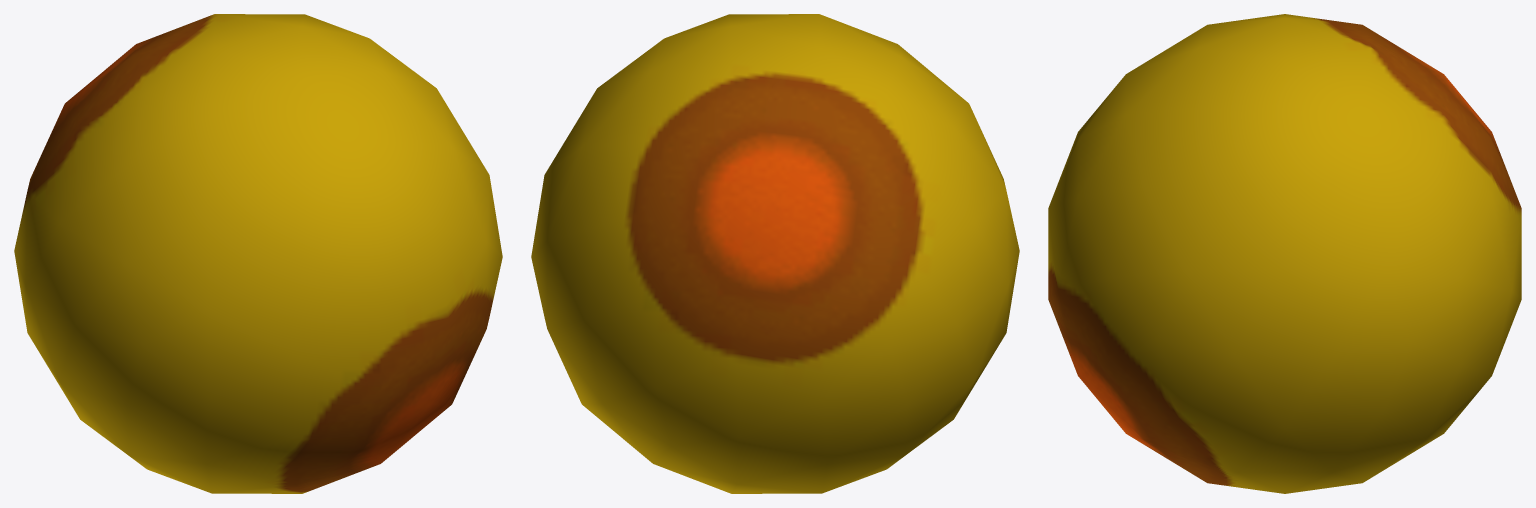
Rendered from WigglerBody.fbx.
The picture shows the model from 3 angles, left to right: view 1: azimuth 30°, elevation 25°; view 2: azimuth 150°, elevation 25°; view 3: azimuth 270°, elevation 25°; orthographic projection.
Parts seen in each view (by area): view 1: Body; view 2: Body; view 3: Body.
Part boxes in pixels (x1,y1,x2,y2): Body: (14, 14, 502, 493); Body: (531, 14, 1019, 493); Body: (1048, 14, 1521, 493).
Bounding box in the file's own units: 505 × 505 × 505.
